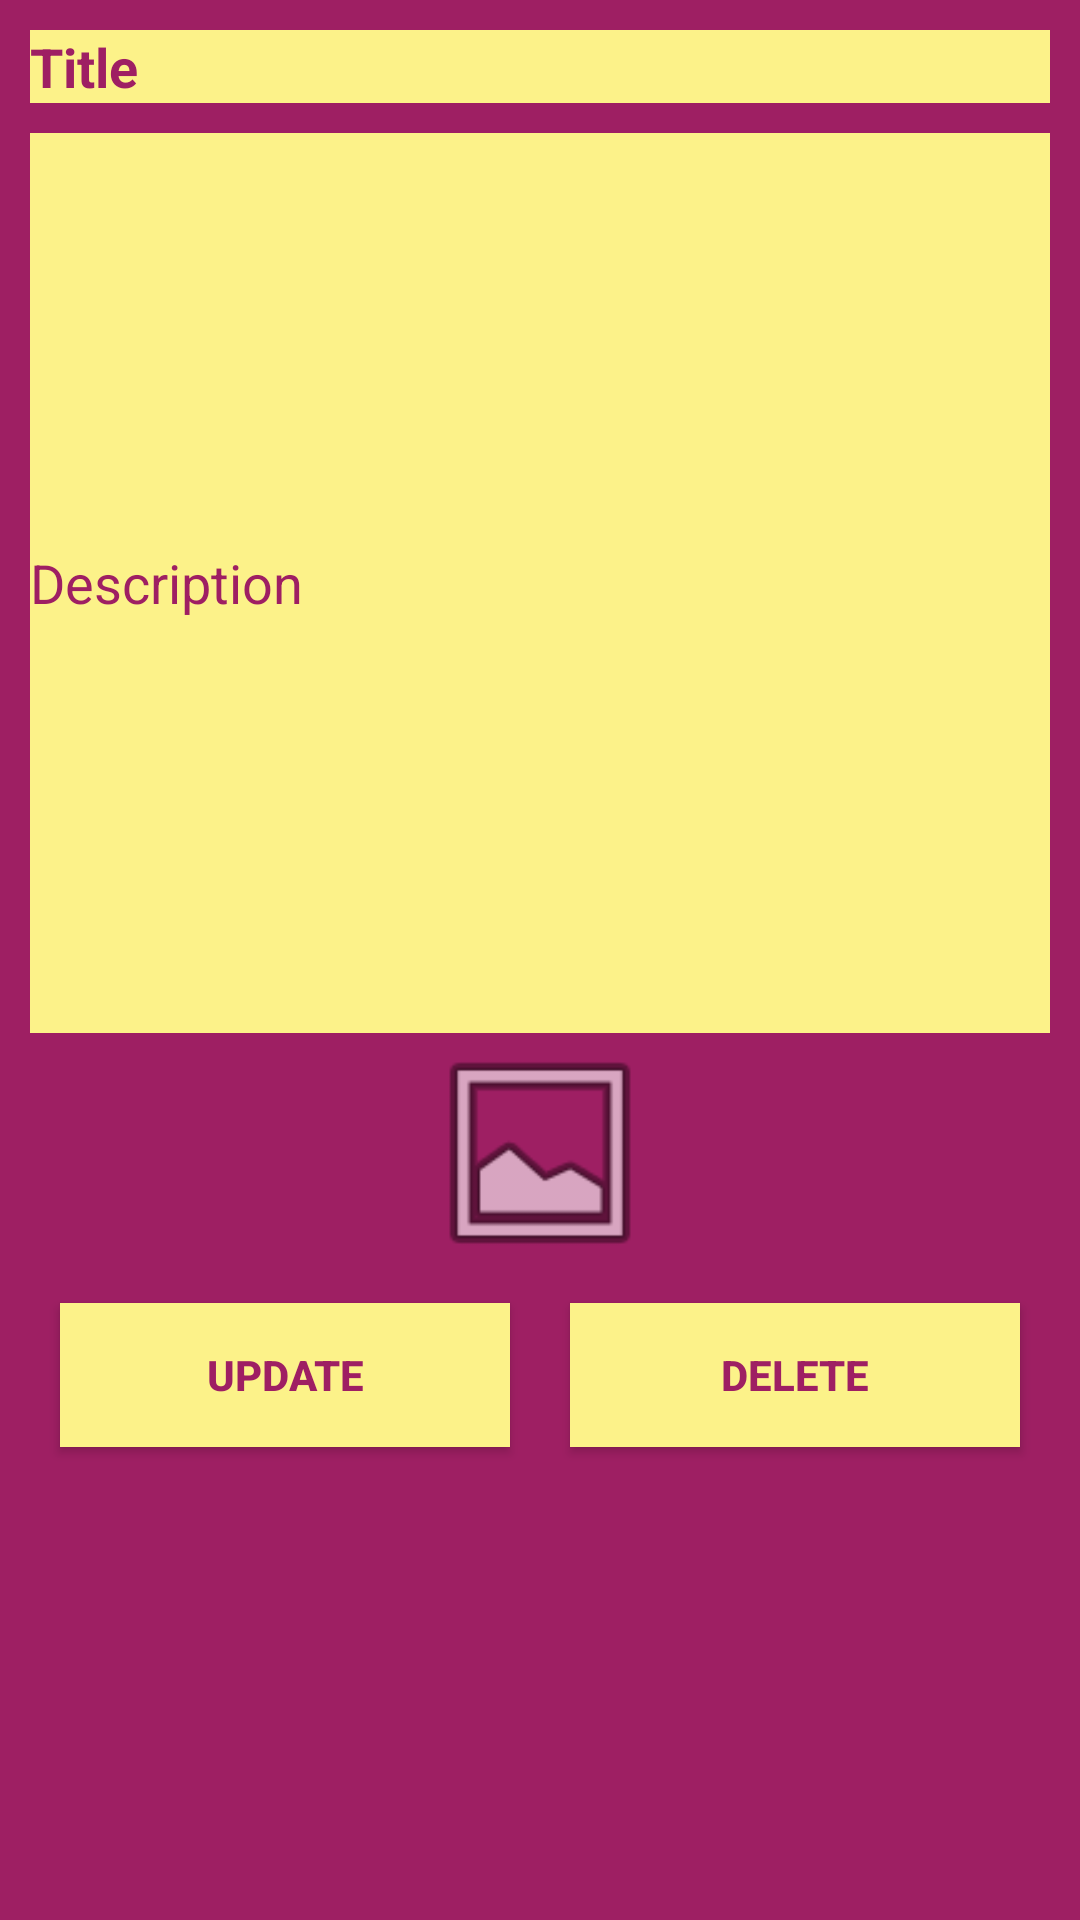

Icons on this 1080*1920 Android screen, each with the point to tap as (x,y):
gallery: (540,1153)
